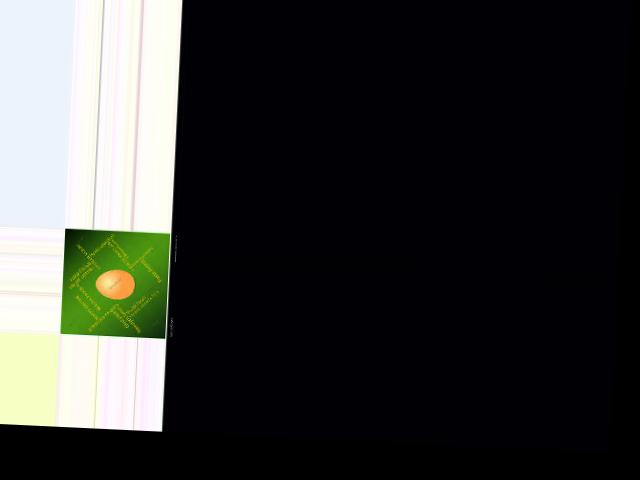egg: (95, 268, 135, 299)
